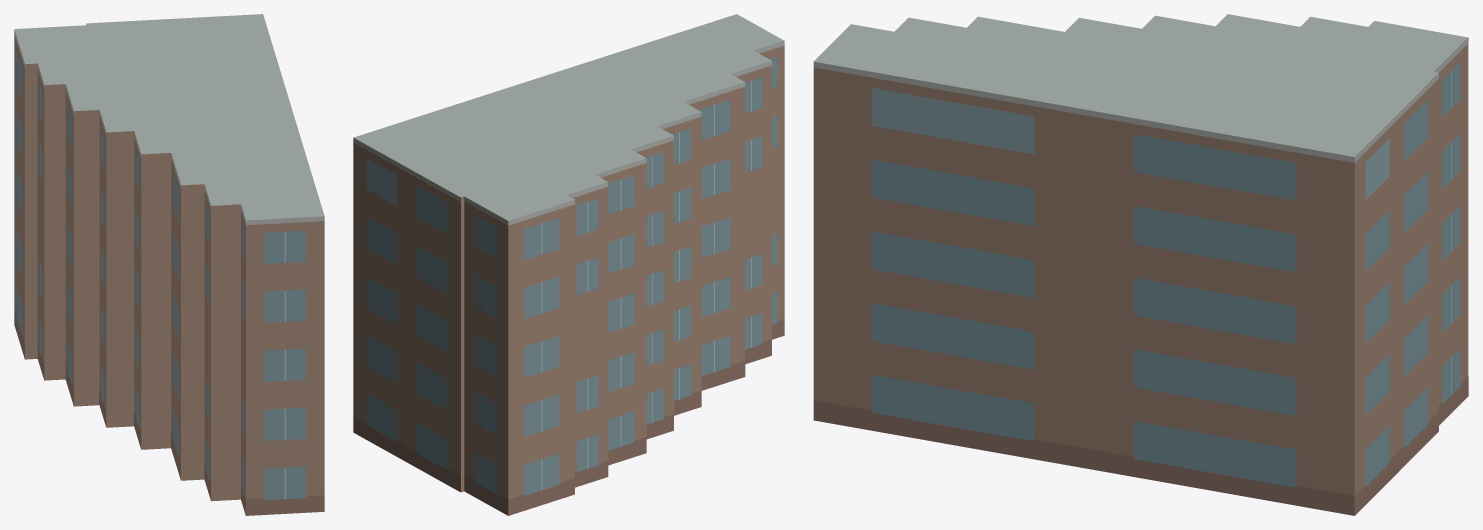
The model's file is survey-upis-32654754.glb.
3 views of the same model, side by side, from view 1: azimuth 30°, elevation 25°; view 2: azimuth 150°, elevation 25°; view 3: azimuth 270°, elevation 25° (orthographic). The views are drawn at different scales.
Parts seen in each view (by area): view 1: survey-upis-32654754.tmp; view 2: survey-upis-32654754.tmp; view 3: survey-upis-32654754.tmp.
Boxes of the visible parts, x1,y1,x2,y2 form: survey-upis-32654754.tmp: (14,14,324,515); survey-upis-32654754.tmp: (353,14,784,515); survey-upis-32654754.tmp: (813,14,1468,515).
Bounding box in the file's own units: 13.01 × 15.2 × 25.15.
